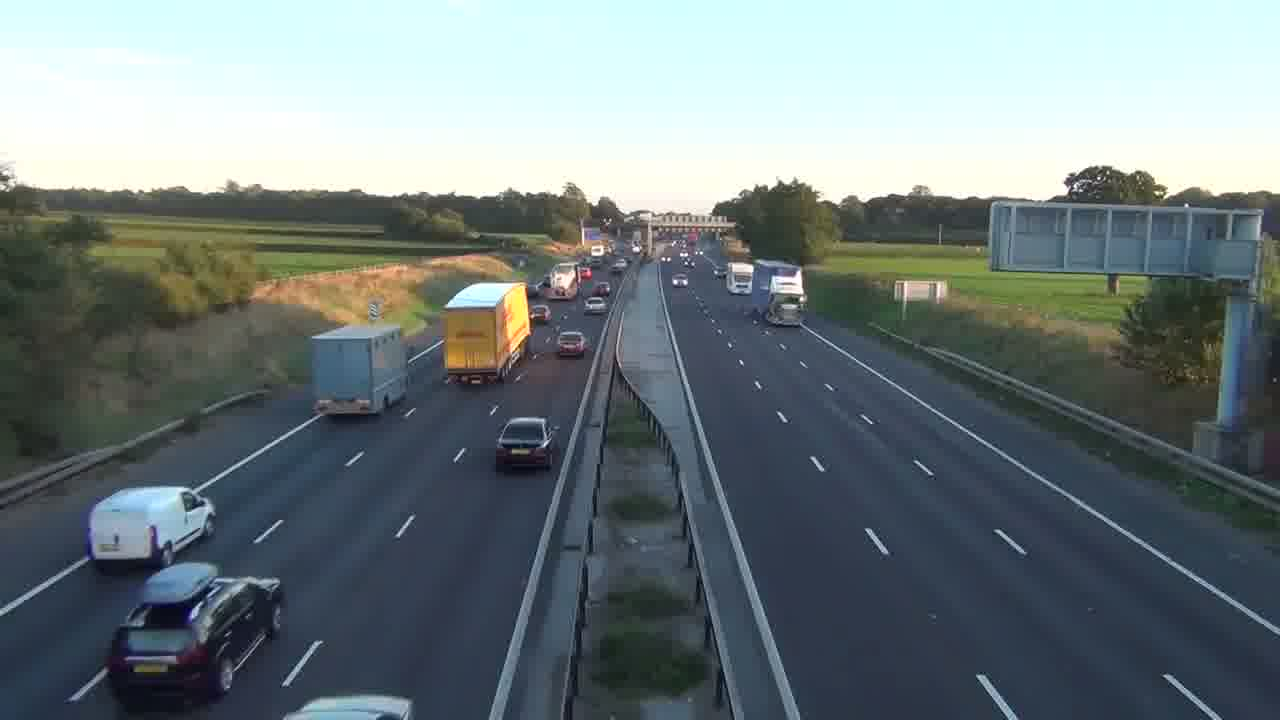car: (105, 564, 277, 707), (495, 415, 557, 471), (558, 329, 587, 358), (672, 275, 688, 287)
truck: (105, 564, 277, 707), (309, 322, 446, 418), (86, 485, 216, 570), (442, 280, 531, 386), (308, 322, 407, 417)
